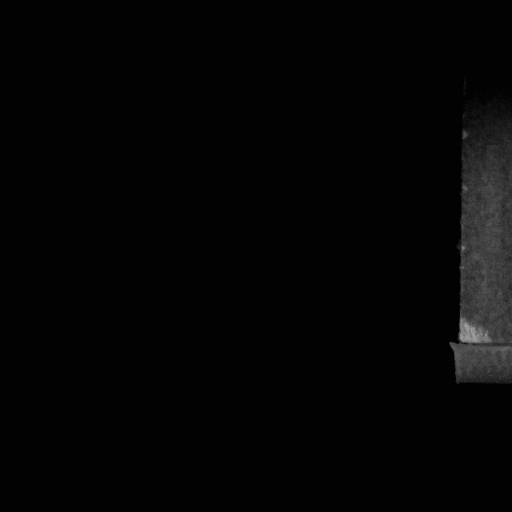bengque: (457, 317, 493, 347)
